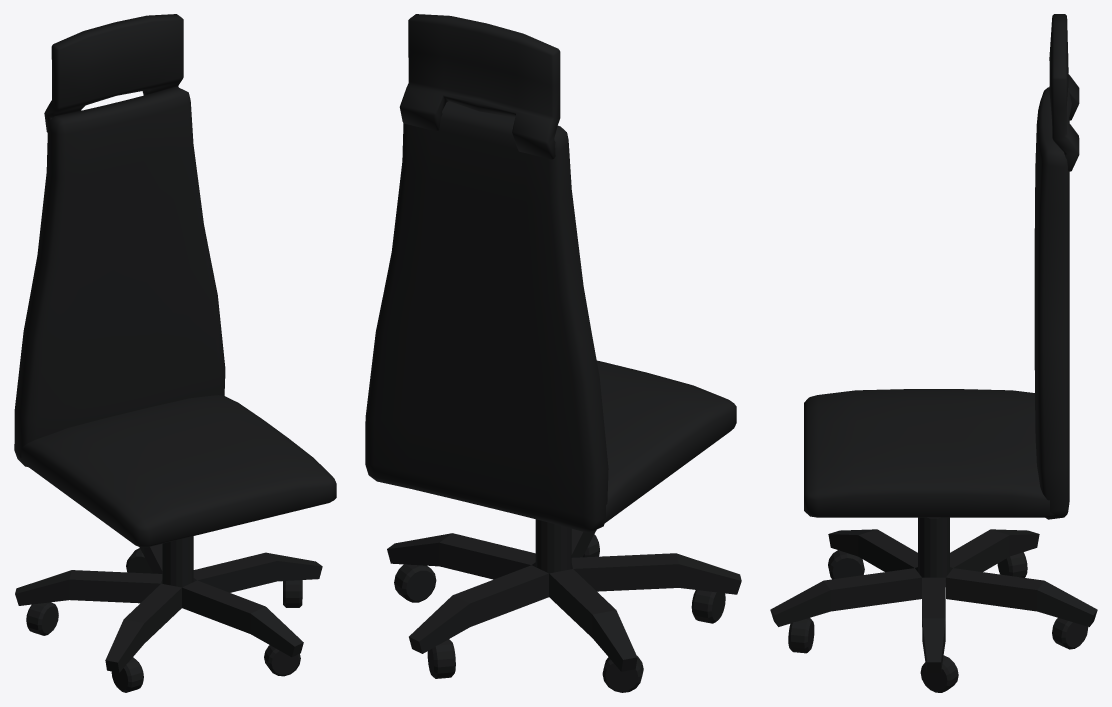
Rendered from Prop_OfficeChair_03.fbx.
The picture shows the model from 3 angles, left to right: view 1: azimuth 30°, elevation 25°; view 2: azimuth 150°, elevation 25°; view 3: azimuth 270°, elevation 25°; orthographic projection. The views are drawn at different scales.
Visible parts, largest first — view 1: Prop_OfficeChair_03; view 2: Prop_OfficeChair_03; view 3: Prop_OfficeChair_03.
Part boxes in pixels (<box>): Prop_OfficeChair_03: <box>14,14,336,692</box>; Prop_OfficeChair_03: <box>365,14,741,692</box>; Prop_OfficeChair_03: <box>770,14,1097,692</box>.
Size of the model in its own units: 63.07 by 132 by 66.32.
